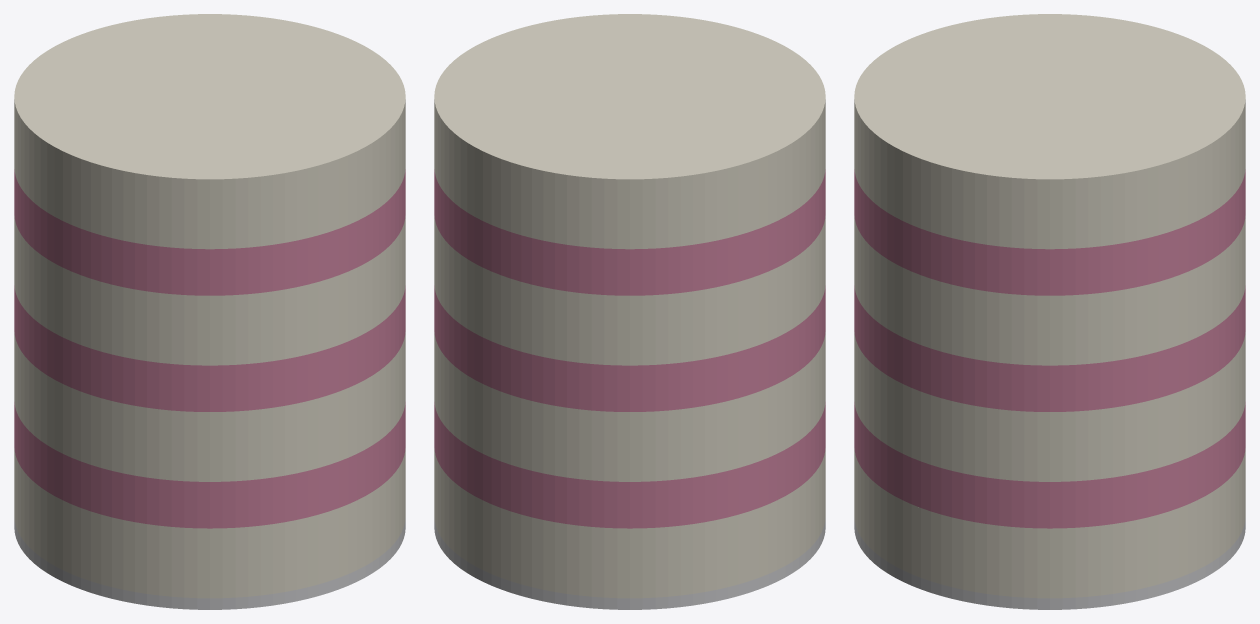
Rendered from cake_6in_layers4.glb.
3 views of the same model, side by side, from view 1: azimuth 30°, elevation 25°; view 2: azimuth 150°, elevation 25°; view 3: azimuth 270°, elevation 25° (orthographic).
Parts seen in each view (by area): view 1: geometry_6, geometry_4, geometry_0, geometry_2, geometry_3, geometry_1, geometry_5, geometry_7; view 2: geometry_6, geometry_4, geometry_0, geometry_2, geometry_3, geometry_1, geometry_5, geometry_7; view 3: geometry_6, geometry_4, geometry_0, geometry_2, geometry_3, geometry_1, geometry_5, geometry_7.
Boxes of the visible parts, left/top/right/bottom form: geometry_6: left=14, top=14, right=405, bottom=249; geometry_4: left=14, top=216, right=405, bottom=365; geometry_0: left=14, top=448, right=405, bottom=598; geometry_2: left=14, top=332, right=405, bottom=481; geometry_3: left=14, top=285, right=405, bottom=411; geometry_1: left=14, top=402, right=405, bottom=528; geometry_5: left=14, top=169, right=405, bottom=295; geometry_7: left=14, top=518, right=405, bottom=609; geometry_6: left=434, top=14, right=825, bottom=249; geometry_4: left=434, top=216, right=825, bottom=365; geometry_0: left=434, top=448, right=825, bottom=598; geometry_2: left=434, top=332, right=825, bottom=481; geometry_3: left=434, top=285, right=825, bottom=411; geometry_1: left=434, top=402, right=825, bottom=528; geometry_5: left=434, top=169, right=825, bottom=295; geometry_7: left=434, top=518, right=825, bottom=609; geometry_6: left=854, top=14, right=1245, bottom=249; geometry_4: left=854, top=216, right=1245, bottom=365; geometry_0: left=854, top=448, right=1245, bottom=598; geometry_2: left=854, top=332, right=1245, bottom=481; geometry_3: left=854, top=285, right=1245, bottom=411; geometry_1: left=854, top=402, right=1245, bottom=528; geometry_5: left=854, top=169, right=1245, bottom=295; geometry_7: left=854, top=518, right=1245, bottom=609.
Bounding box in the file's own units: 0.1524 × 0.185 × 0.1524.
